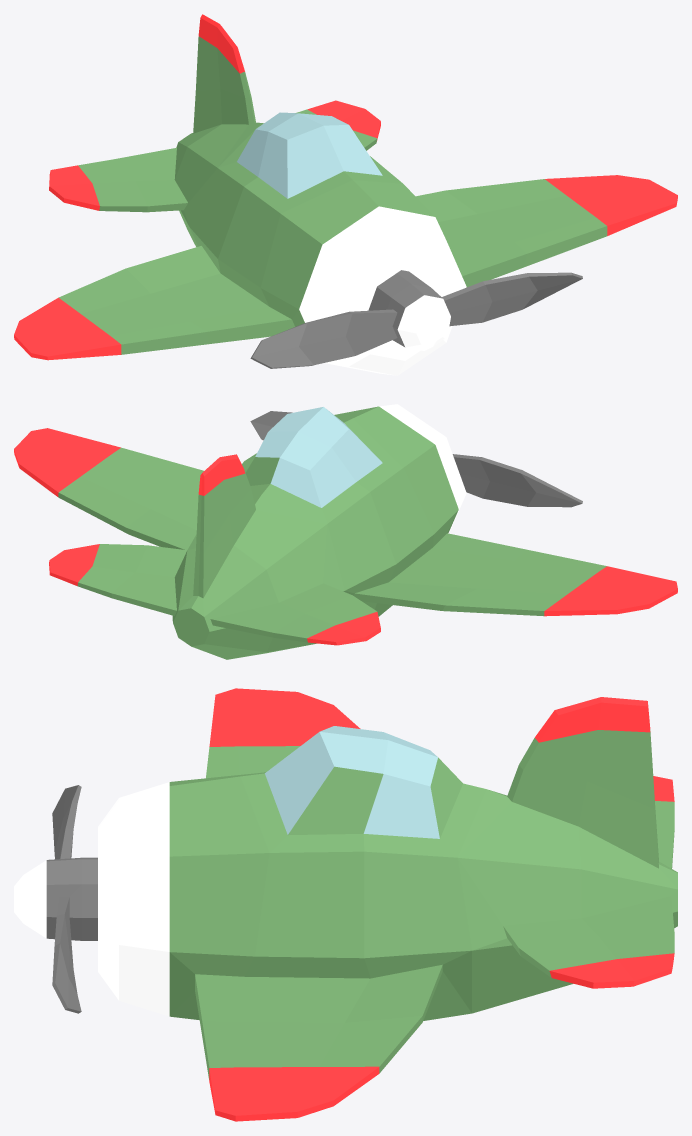
File: Airplane.gltf
3 views of the same model, one above another, from view 1: azimuth 30°, elevation 25°; view 2: azimuth 150°, elevation 25°; view 3: azimuth 270°, elevation 25° (orthographic). The views are drawn at different scales.
Parts seen in each view (by area): view 1: Cylinder, Cylinder.001; view 2: Cylinder, Cylinder.001; view 3: Cylinder, Cylinder.001.
Boxes of the visible parts, x1=… form: Cylinder: x1=14, y1=14, x2=677, y2=375; Cylinder.001: x1=250, y1=270, x2=582, y2=368; Cylinder: x1=14, y1=404, x2=677, y2=659; Cylinder.001: x1=250, y1=411, x2=582, y2=507; Cylinder: x1=98, y1=688, x2=677, y2=1121; Cylinder.001: x1=14, y1=785, x2=97, y2=1013.
Size of the model in its own units: 6.95 by 2.49 by 4.56.
